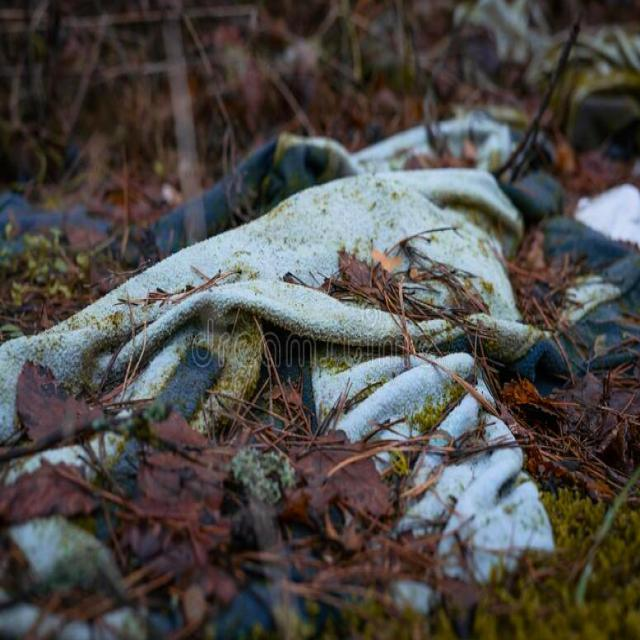clothes: (194, 218, 504, 496)
